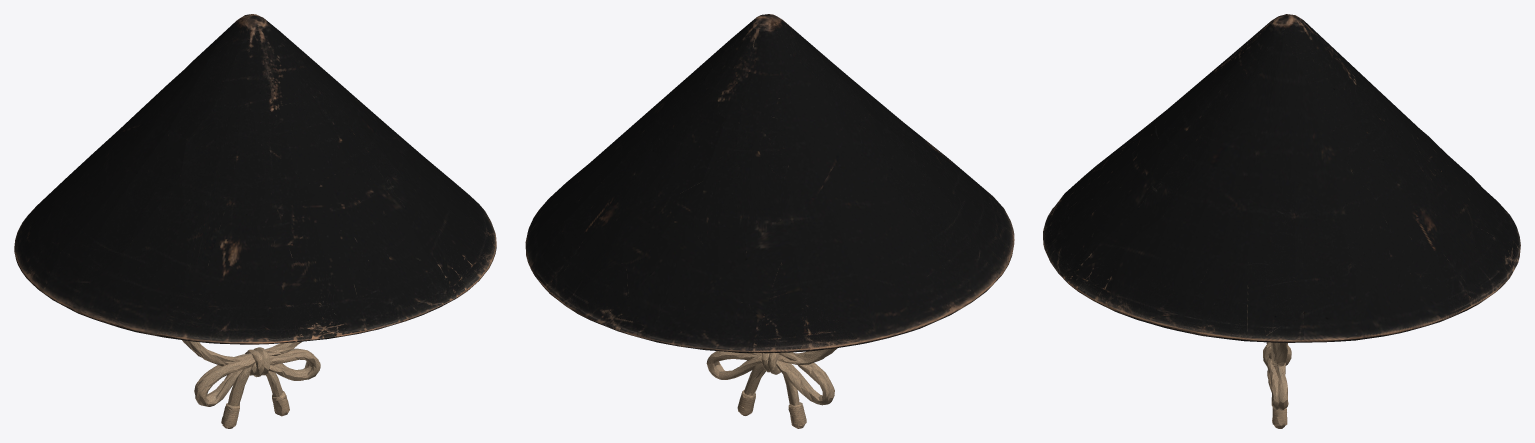
Rendered from acc_jingasa_image.glb.
The picture shows the model from 3 angles, left to right: view 1: azimuth 30°, elevation 25°; view 2: azimuth 150°, elevation 25°; view 3: azimuth 270°, elevation 25°; orthographic projection. The views are drawn at different scales.
Size of the model in its own units: 1.9 by 1.75 by 1.9.
1 material, 1 textured.
